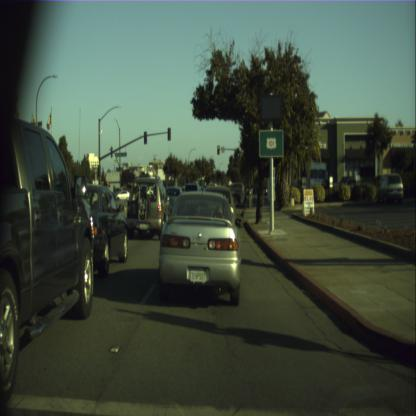Green: (236, 147, 240, 156)
Red: (216, 145, 220, 154)
